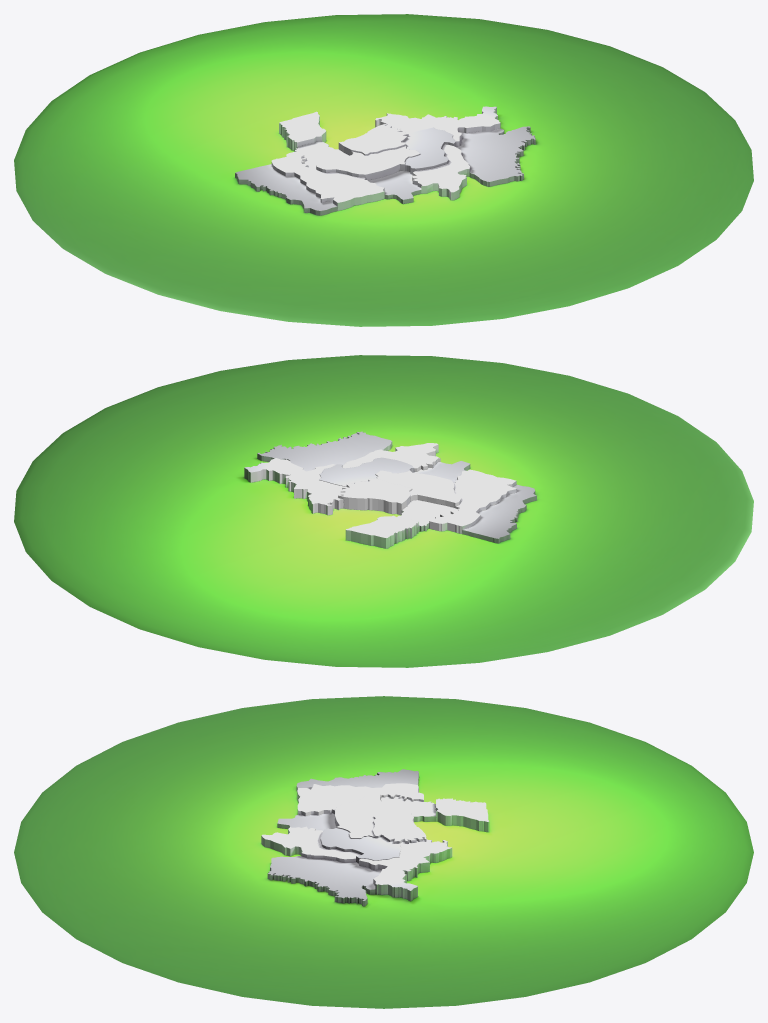
Rendered from MapDepok.glb.
3 renders of one model, top to bottom at view 1: azimuth 30°, elevation 25°; view 2: azimuth 150°, elevation 25°; view 3: azimuth 270°, elevation 25°, orthographic.
Parts seen in each view (by area): view 1: Ground, Tapos, SawanganTengah, BojongSari, Depok2, Depok, Cilodong, DepokDuaTengah, Beiji, Limo2, Cipayung, Limo; view 2: Ground, Depok2, SawanganTengah, Tapos, BojongSari, Beiji, Depok, Limo2, DepokDuaTengah, Cilodong, Limo, Cipayung; view 3: Ground, Tapos, Depok2, SawanganTengah, Cilodong, DepokDuaTengah, Depok, Limo2, Beiji, BojongSari, Limo, Cipayung.
Boxes of the visible parts, x1=… form: Ground: x1=14, y1=14, x2=753, y2=326; Tapos: x1=456, y1=126, x2=535, y2=186; SawanganTengah: x1=271, y1=151, x2=384, y2=210; BojongSari: x1=235, y1=164, x2=337, y2=215; Depok2: x1=375, y1=106, x2=500, y2=146; Depok: x1=316, y1=145, x2=420, y2=180; Cilodong: x1=412, y1=144, x2=470, y2=200; DepokDuaTengah: x1=403, y1=127, x2=455, y2=174; Beiji: x1=338, y1=123, x2=408, y2=155; Limo2: x1=279, y1=111, x2=326, y2=151; Cipayung: x1=368, y1=170, x2=421, y2=203; Limo: x1=295, y1=141, x2=348, y2=168; Ground: x1=14, y1=355, x2=753, y2=667; Depok2: x1=244, y1=458, x2=344, y2=515; SawanganTengah: x1=429, y1=469, x2=516, y2=533; Tapos: x1=257, y1=431, x2=392, y2=471; BojongSari: x1=462, y1=484, x2=536, y2=543; Beiji: x1=338, y1=478, x2=412, y2=515; Depok: x1=375, y1=470, x2=460, y2=507; Limo2: x1=345, y1=515, x2=418, y2=548; DepokDuaTengah: x1=319, y1=457, x2=413, y2=486; Cilodong: x1=342, y1=443, x2=440, y2=471; Limo: x1=397, y1=500, x2=457, y2=531; Cipayung: x1=413, y1=460, x2=470, y2=482; Ground: x1=14, y1=696, x2=753, y2=1008; Tapos: x1=267, y1=856, x2=381, y2=906; Depok2: x1=359, y1=839, x2=452, y2=901; SawanganTengah: x1=297, y1=783, x2=423, y2=815; Cilodong: x1=261, y1=826, x2=361, y2=862; DepokDuaTengah: x1=320, y1=828, x2=400, y2=863; Depok: x1=335, y1=793, x2=385, y2=838; Limo2: x1=436, y1=798, x2=489, y2=832; Beiji: x1=372, y1=811, x2=426, y2=843; BojongSari: x1=296, y1=769, x2=418, y2=791; Limo: x1=380, y1=796, x2=435, y2=821; Cipayung: x1=277, y1=813, x2=336, y2=830.
Size of the model in its own units: 986 by 37.47 by 986.
Materials: 12 (12 with a texture image).
